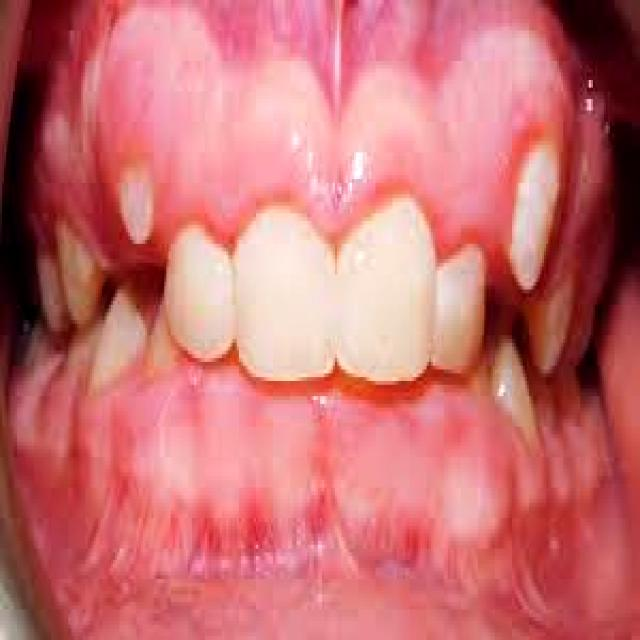hypodontia: (28, 99, 585, 347)
